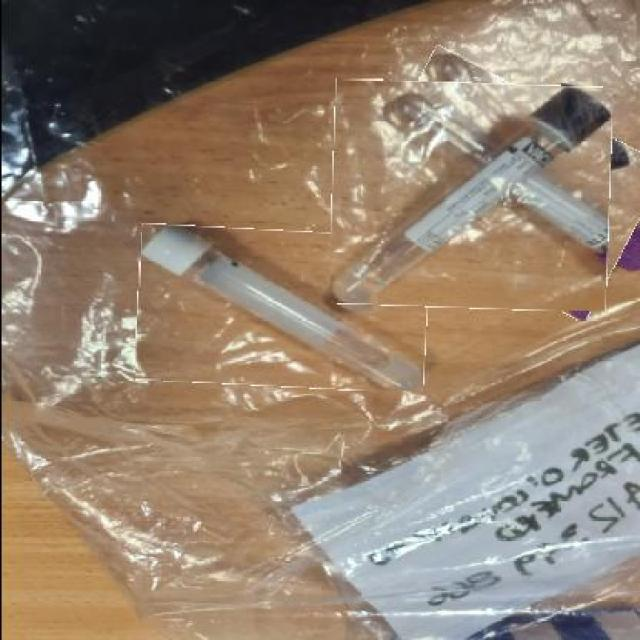Experimental-tube: (328, 82, 608, 310), (366, 69, 639, 300), (134, 227, 426, 390)
